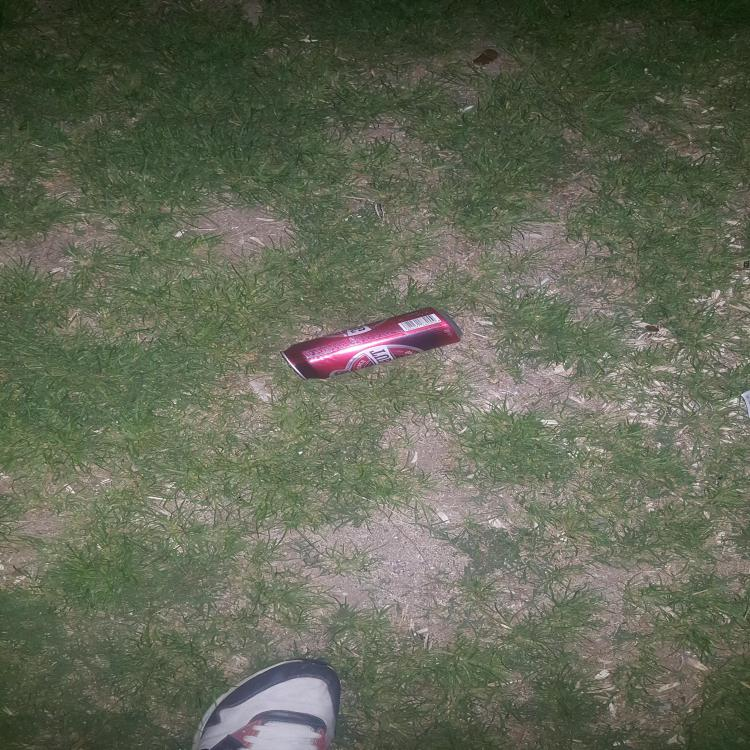Drink can: (280, 307, 462, 380)
